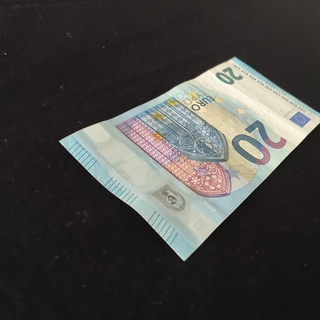20EUROFront: (58, 56, 320, 262)
